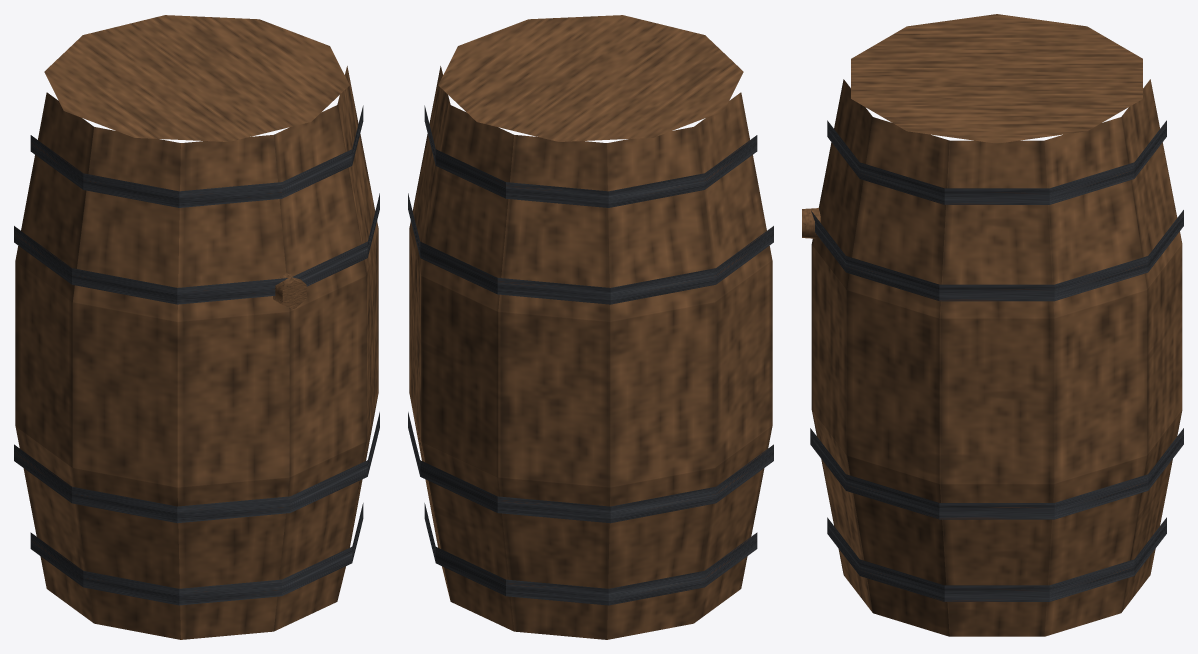
Rendered from prop_haven_barrel_a.glb.
3 renders of one model, left to right at view 1: azimuth 30°, elevation 25°; view 2: azimuth 150°, elevation 25°; view 3: azimuth 270°, elevation 25°, orthographic.
Parts seen in each view (by area): view 1: prop_haven_barrel_a; view 2: prop_haven_barrel_a; view 3: prop_haven_barrel_a.
Part boxes in pixels (bbox=[...]): prop_haven_barrel_a: bbox=[14, 15, 379, 639]; prop_haven_barrel_a: bbox=[408, 15, 773, 639]; prop_haven_barrel_a: bbox=[802, 14, 1183, 636].
Size of the model in its own units: 0.5787 by 0.892 by 0.6218.
Materials: 1 (1 with a texture image).
